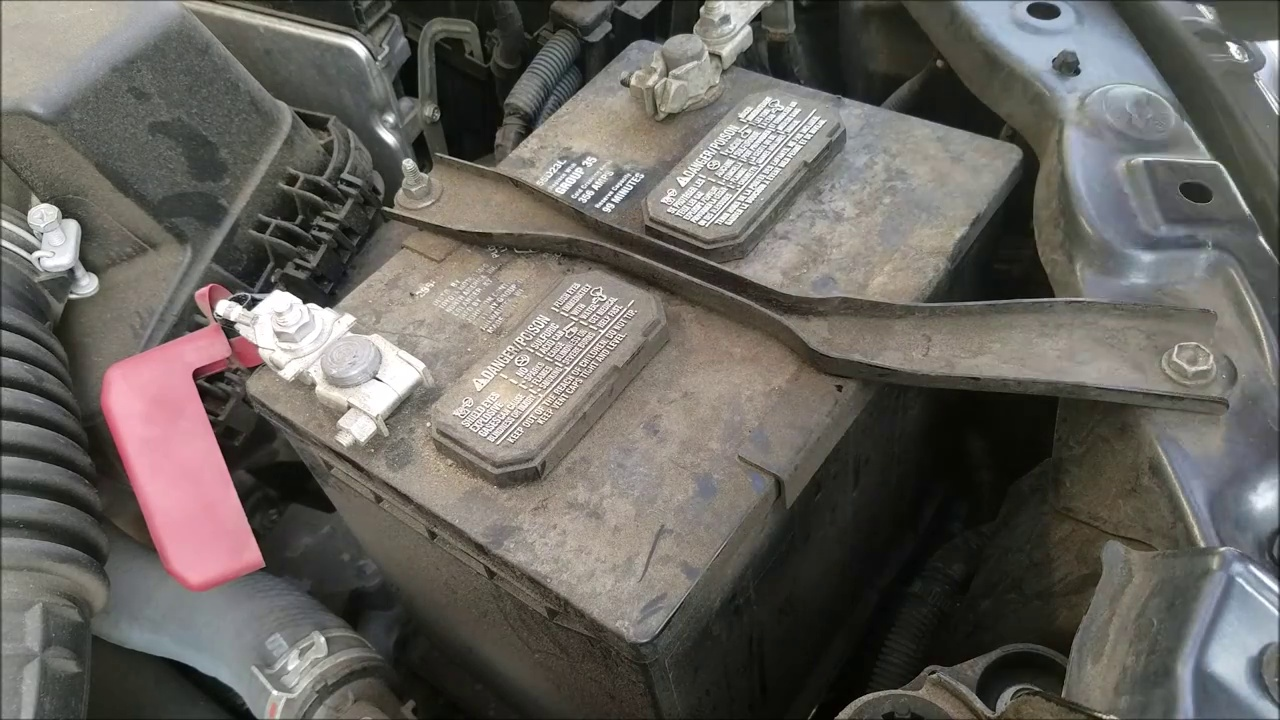battery: (213, 37, 1024, 645)
neg_connected: (610, 1, 759, 119)
pos_connected: (132, 272, 431, 460)
